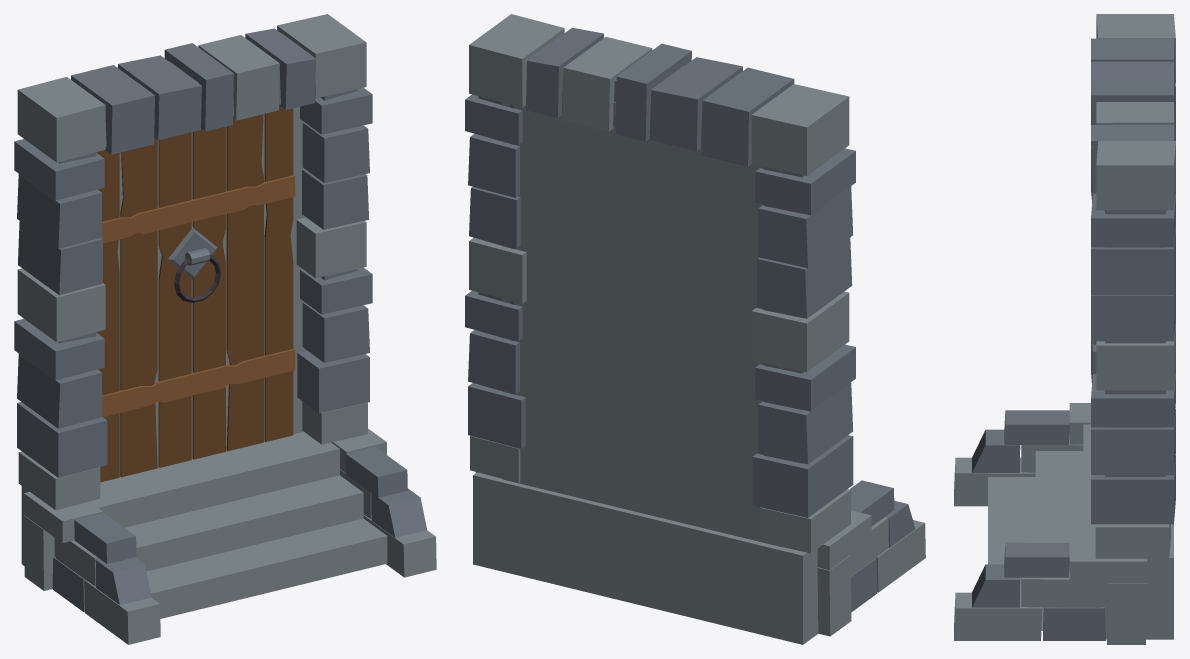
The model's file is Door_Straight.glb.
The picture shows the model from 3 angles, left to right: view 1: azimuth 30°, elevation 25°; view 2: azimuth 150°, elevation 25°; view 3: azimuth 270°, elevation 25°; orthographic projection. The views are drawn at different scales.
Parts seen in each view (by area): view 1: Door_Straight; view 2: Door_Straight; view 3: Door_Straight.
Boxes of the visible parts, x1,y1,x2,y2 form: Door_Straight: (14, 14, 436, 644); Door_Straight: (465, 14, 925, 644); Door_Straight: (954, 14, 1175, 644).
Bounding box in the file's own units: 0.5014 × 0.7079 × 0.2964.
